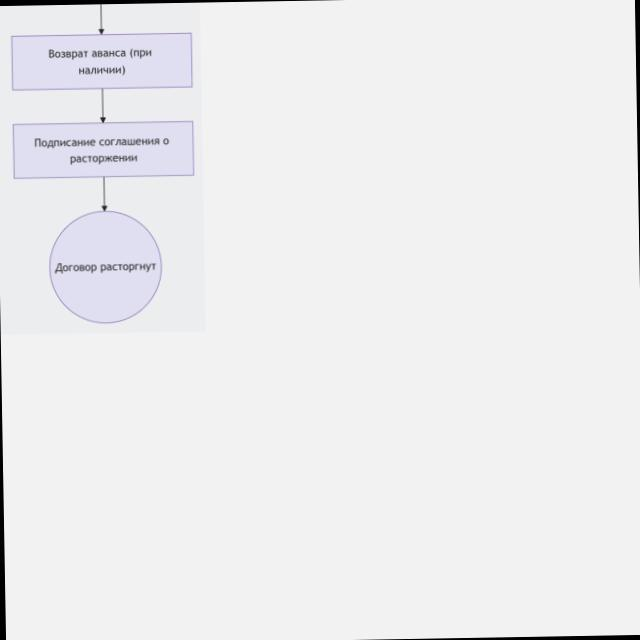arrow: (102, 178, 107, 210), (101, 89, 105, 122), (99, 4, 103, 33)
circle: (50, 211, 161, 322)
rectangle: (14, 122, 194, 179), (12, 33, 192, 90)
